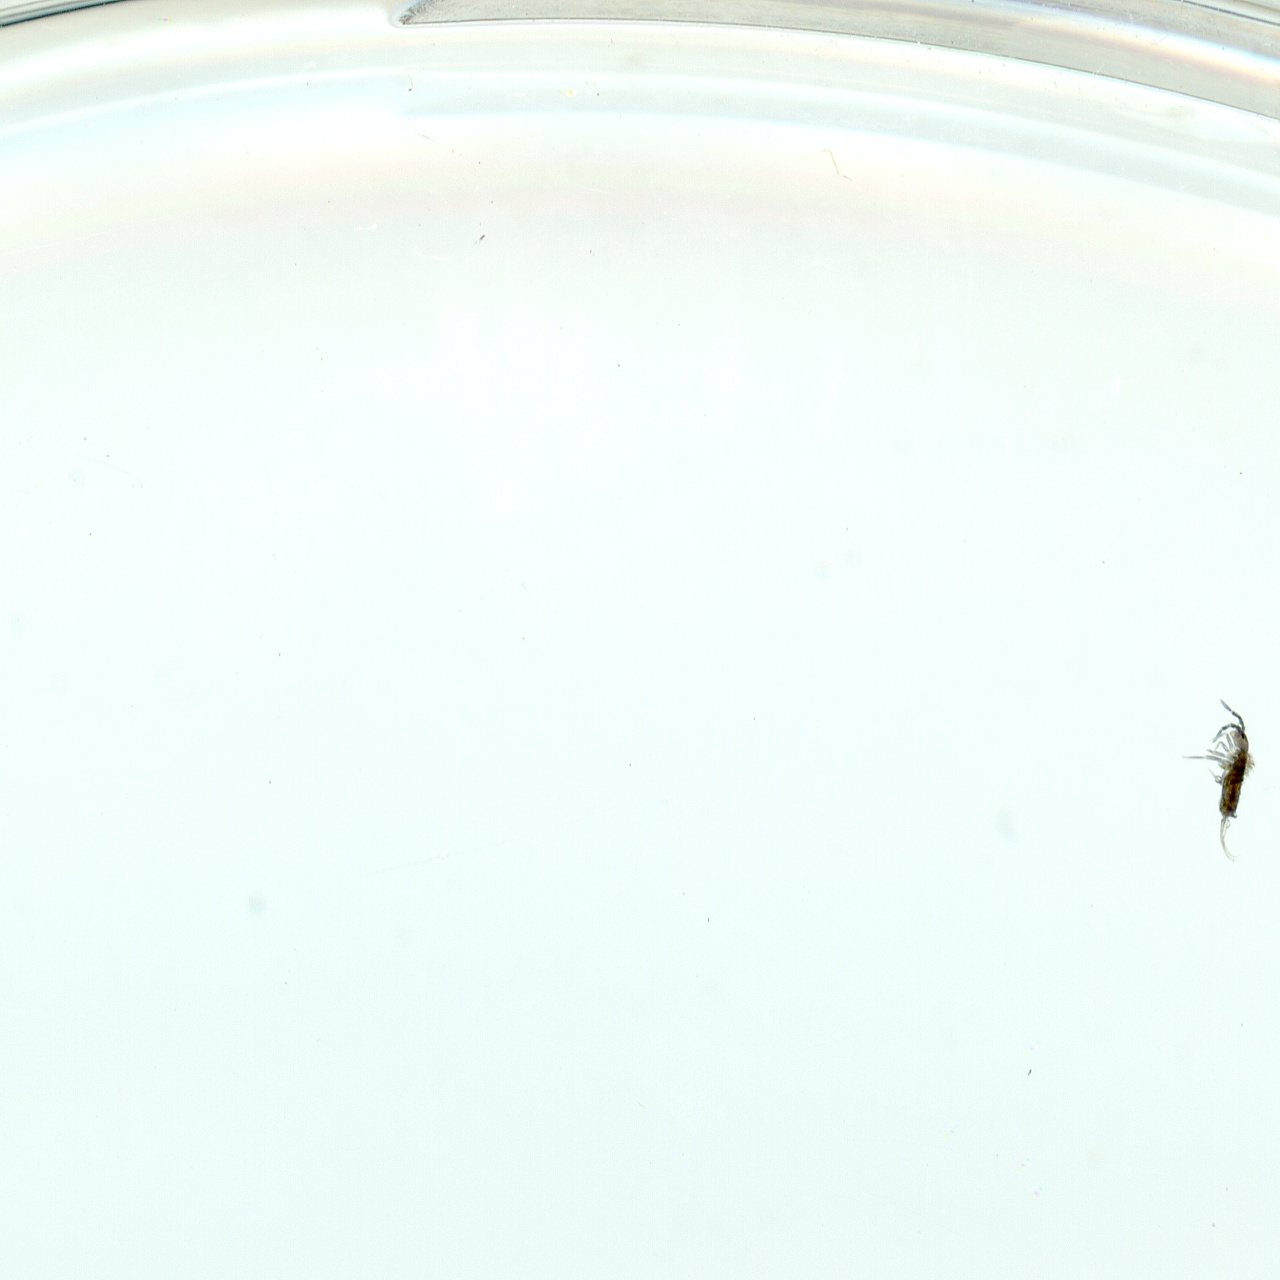arthropod: (1196, 694, 1263, 863)
